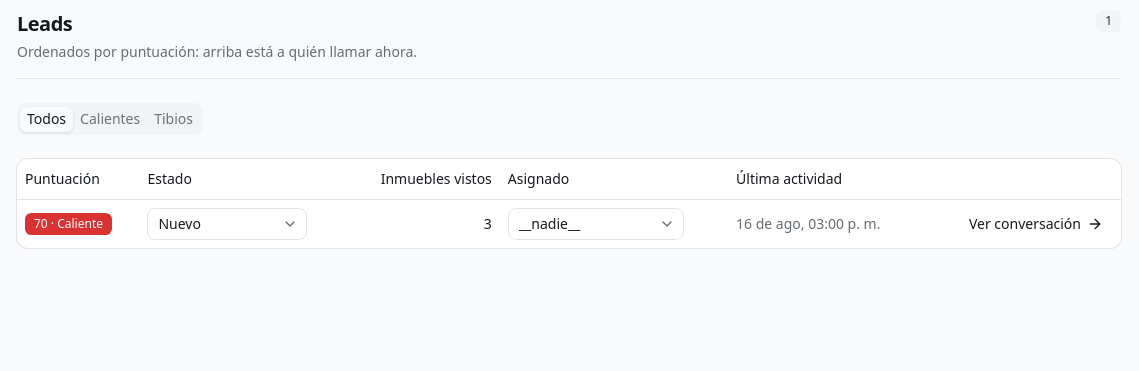
Bandeja de leads › un rechazo del servidor se explica y la fila no se mueve
Click the dropdown named "Estado del lead". click: {"x": 227, "y": 224}
box: top-left (147, 208), bottom-right (307, 240)
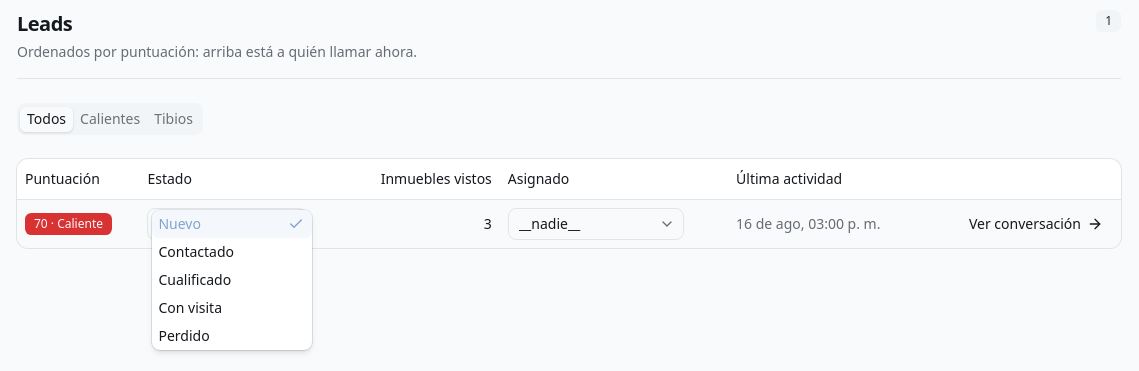
Click the option "Contactado". click: {"x": 196, "y": 251}
box: top-left (158, 242), bottom-right (234, 260)
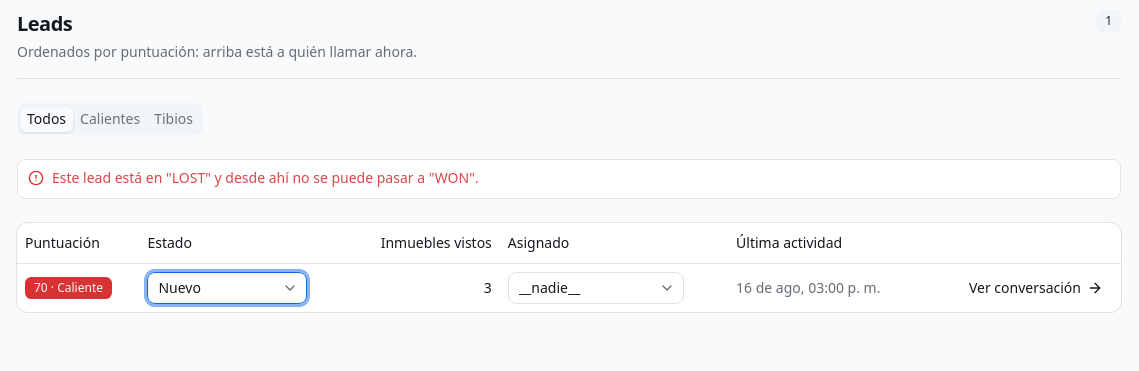
Check: the dropdown named "Estado del lead" shows "Nuevo", box top-left (147, 272), bottom-right (307, 304)
Check: the text "no se puede pasar a" is shown, box top-left (52, 168), bottom-right (479, 187)
